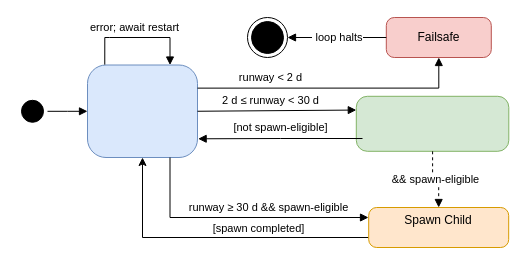
This 527x265 diagram has some shape labels left out. Here are the shapes that lost their labels. From the top down, the box of each, then its label:
(86, 64, 198, 158): Idle (sleep 12 Hours)
(355, 95, 509, 151): Top-up (buy SporeStack credits)
